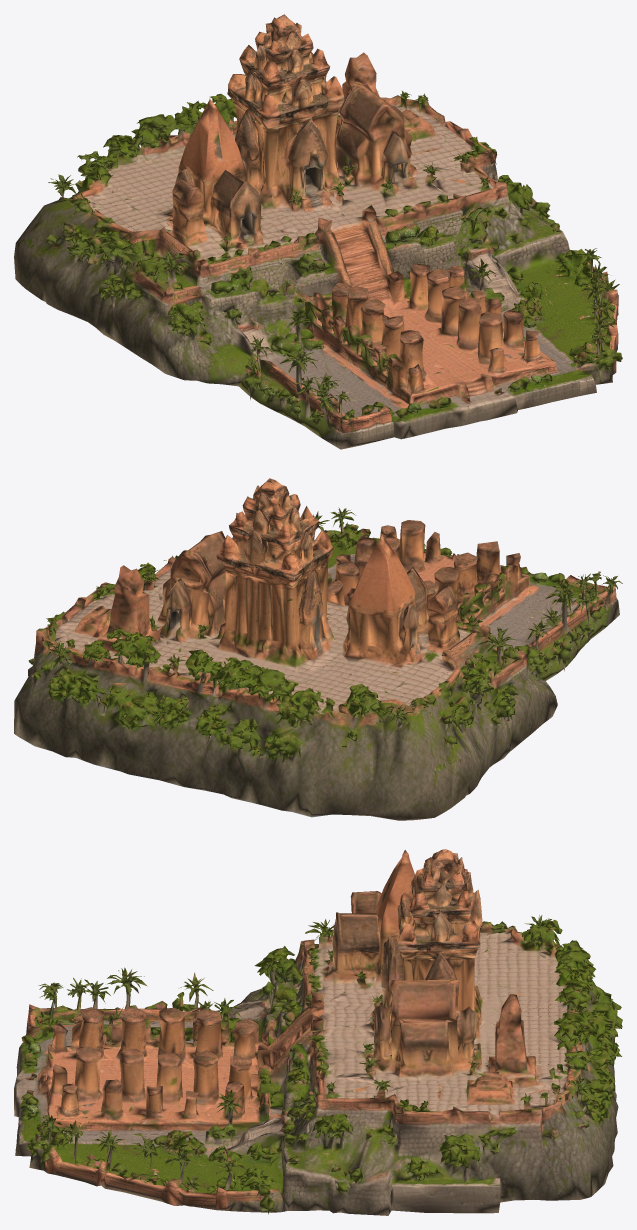
The model's file is thap-ba-ponagar.glb.
3 renders of one model, top to bottom at view 1: azimuth 30°, elevation 25°; view 2: azimuth 150°, elevation 25°; view 3: azimuth 270°, elevation 25°, orthographic. The views are drawn at different scales.
Bounding box in the file's own units: 0.8645 × 0.4633 × 0.9978.
Materials: 1 (1 with a texture image).
